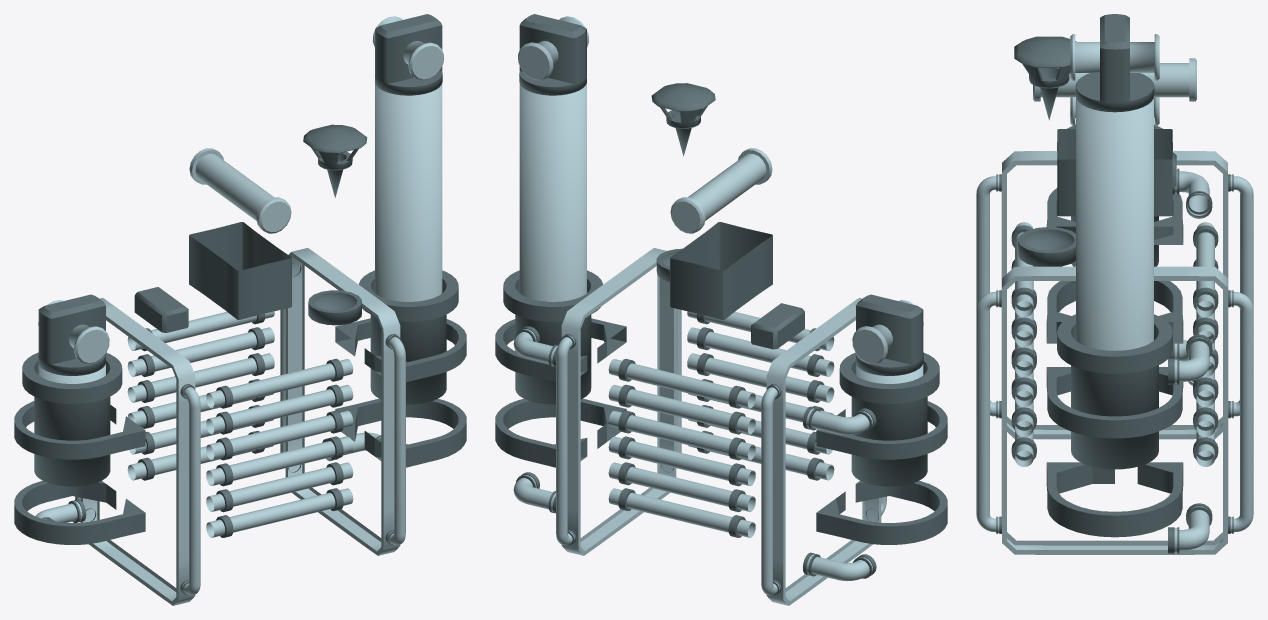
Rendered from fant_steamengine_1.obj.
3 renders of one model, left to right at view 1: azimuth 30°, elevation 25°; view 2: azimuth 150°, elevation 25°; view 3: azimuth 270°, elevation 25°, orthographic. The views are drawn at different scales.
Parts seen in each view (by area): view 1: fant_streamengine_Cube.004; view 2: fant_streamengine_Cube.004; view 3: fant_streamengine_Cube.004.
Part boxes in pixels (<box>): fant_streamengine_Cube.004: <box>14,14,466,605</box>; fant_streamengine_Cube.004: <box>495,14,947,605</box>; fant_streamengine_Cube.004: <box>976,14,1253,554</box>.
Bounding box in the file's own units: 7 × 7.4 × 3.32.
